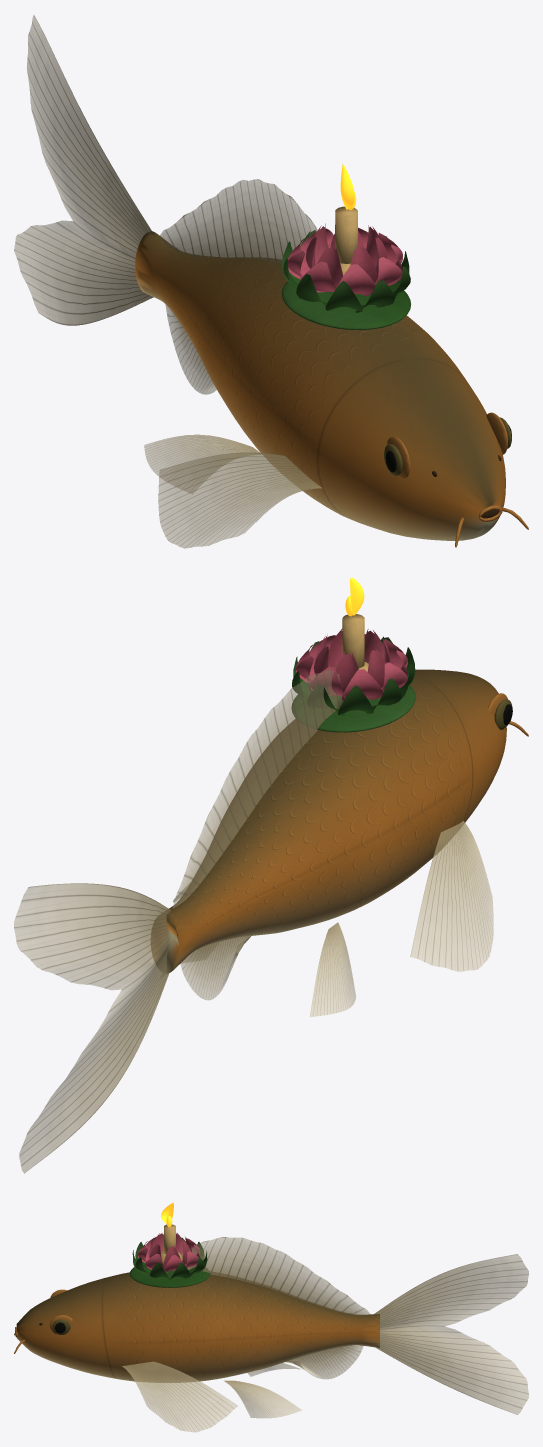
File: loy_krathong.glb
3 renders of one model, top to bottom at view 1: azimuth 30°, elevation 25°; view 2: azimuth 150°, elevation 25°; view 3: azimuth 270°, elevation 25°, orthographic. The views are drawn at different scales.
Visible parts, largest first — view 1: LoyKrathong_Body.001, LoyKrathong_Fins.001, LoyKrathong_Details.001; view 2: LoyKrathong_Body.001, LoyKrathong_Fins.001, LoyKrathong_Details.001; view 3: LoyKrathong_Fins.001, LoyKrathong_Body.001, LoyKrathong_Details.001.
Boxes of the visible parts, x1,y1,x2,y2 form: LoyKrathong_Body.001: (135,231,505,540); LoyKrathong_Fins.001: (14,15,327,548); LoyKrathong_Details.001: (281,206,528,547); LoyKrathong_Body.001: (151,669,506,973); LoyKrathong_Fins.001: (14,670,493,1173); LoyKrathong_Details.001: (291,614,528,736); LoyKrathong_Fins.001: (122,1237,528,1432); LoyKrathong_Body.001: (16,1272,379,1382); LoyKrathong_Details.001: (14,1224,210,1353).
Size of the model in its own units: 0.3687 by 0.4458 by 1.
4 materials, 3 textured.
